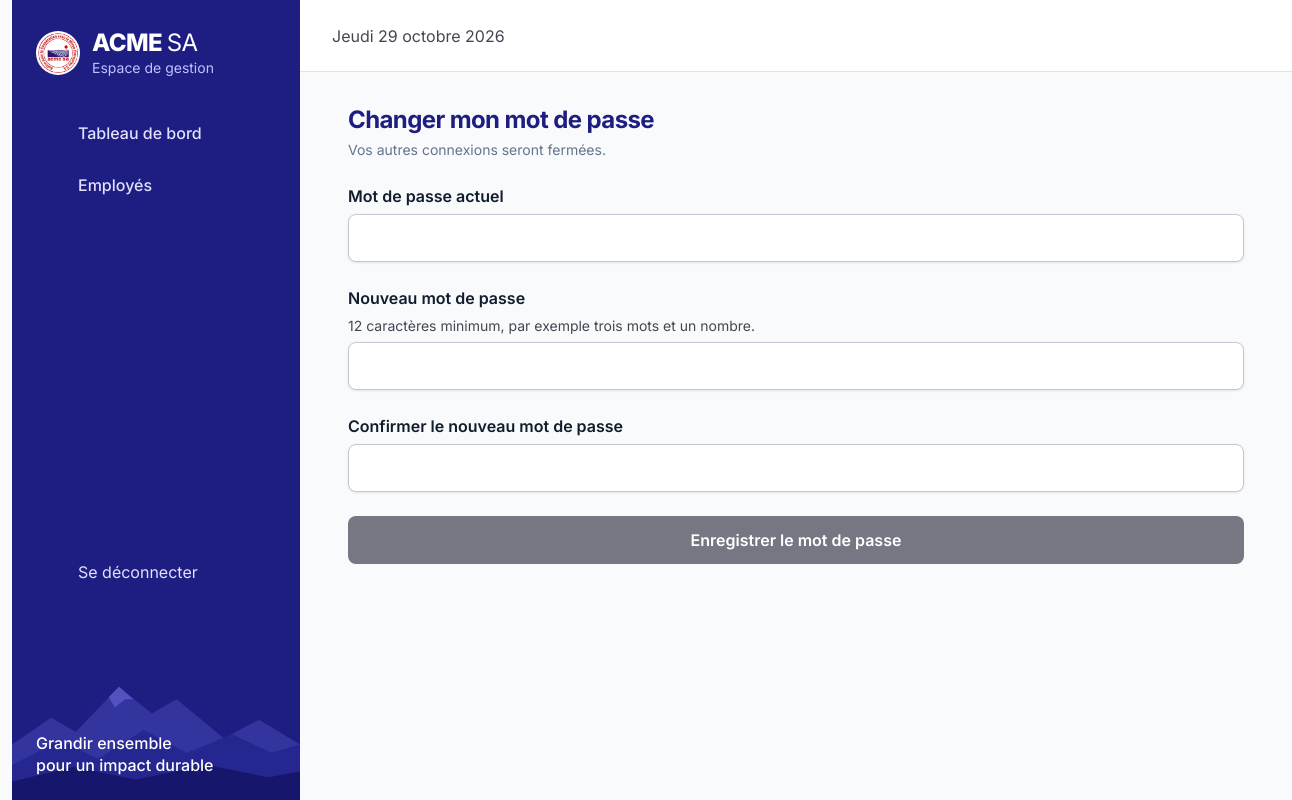
Test: AdminPasswordPage (US-23) › CA-08 : erreur PASSWORD_TOO_SHORT affichée sous le champ concerné
The image size is (1292, 800).
Type "x" into the password field labelled "Mot de passe actuel".
click(796, 238); type("x")  # box [348,214,1244,262]
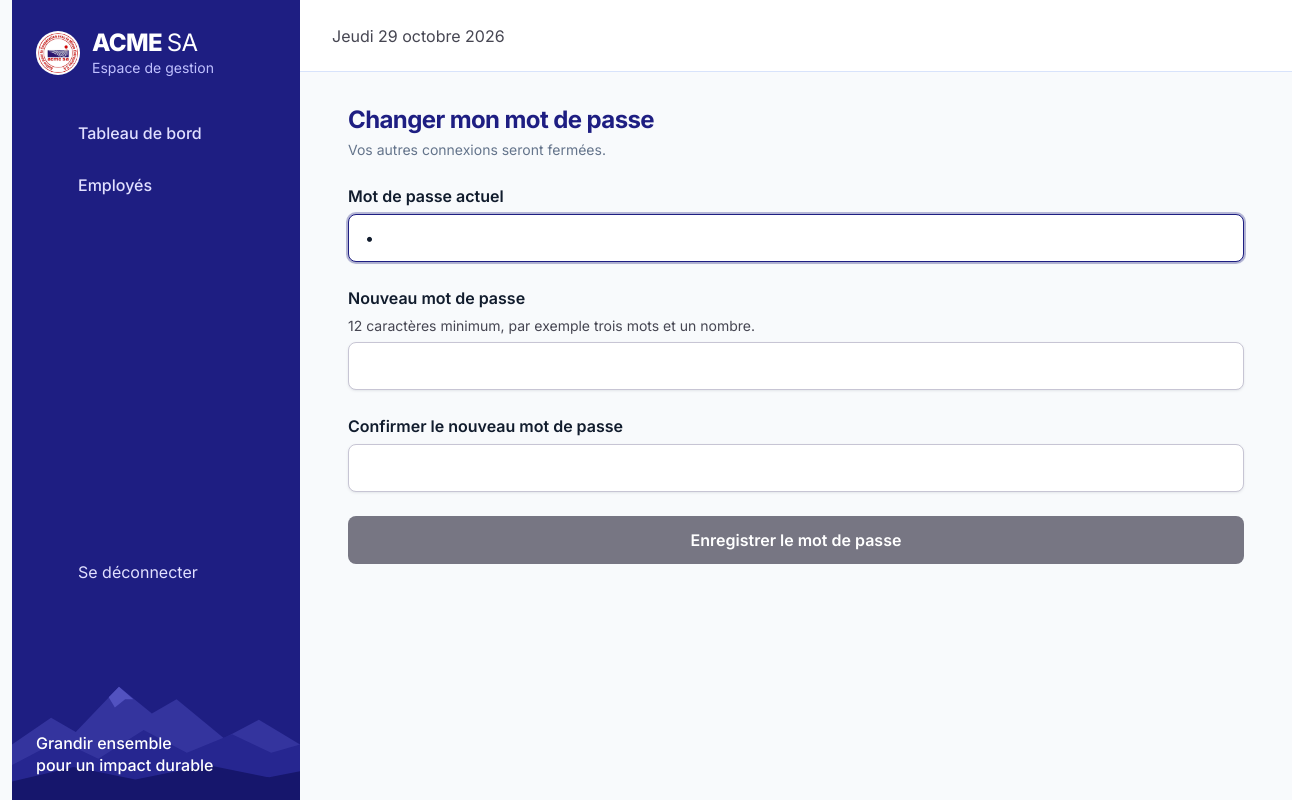
Type "y" into the password field labelled "Nouveau mot de passe".
click(796, 366); type("y")  # box [348,342,1244,390]
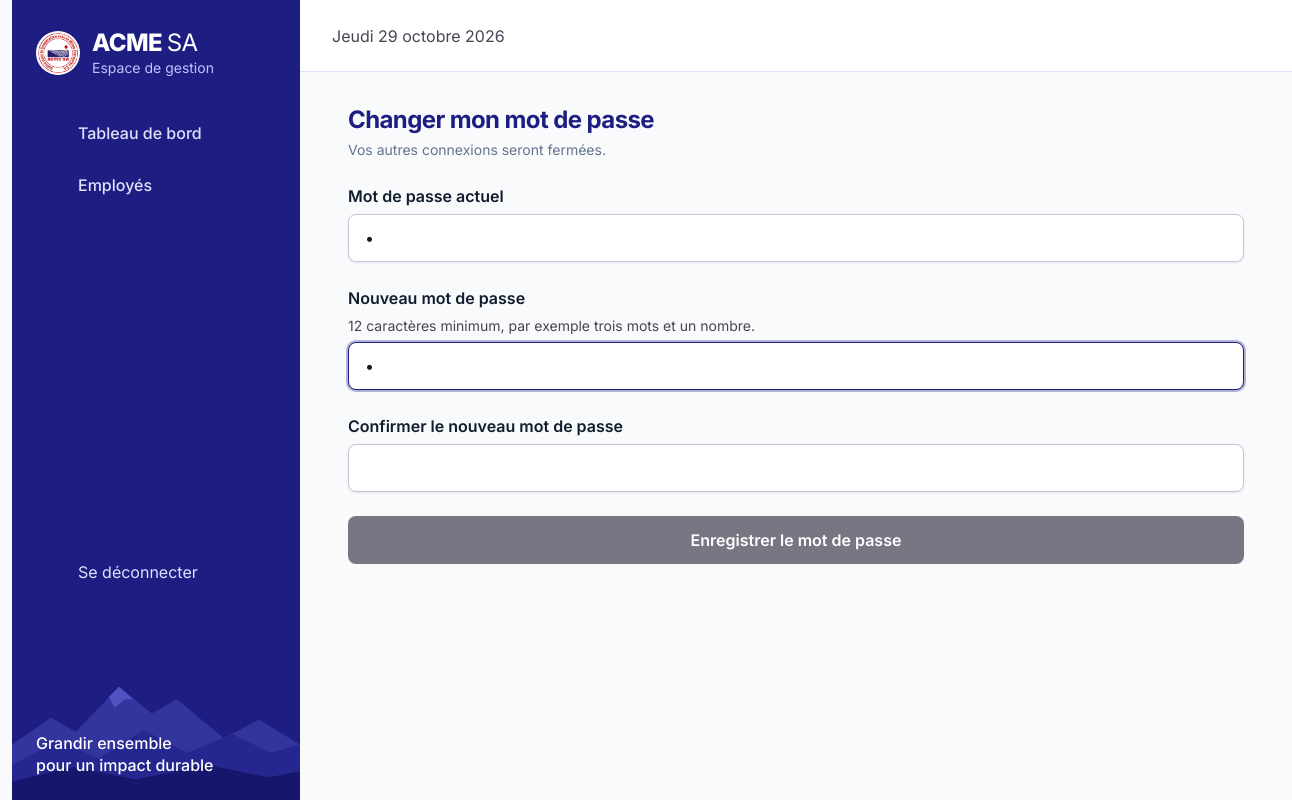
Type "z" into the password field labelled "Confirmer le nouveau mot de passe".
click(796, 468); type("z")  # box [348,444,1244,492]
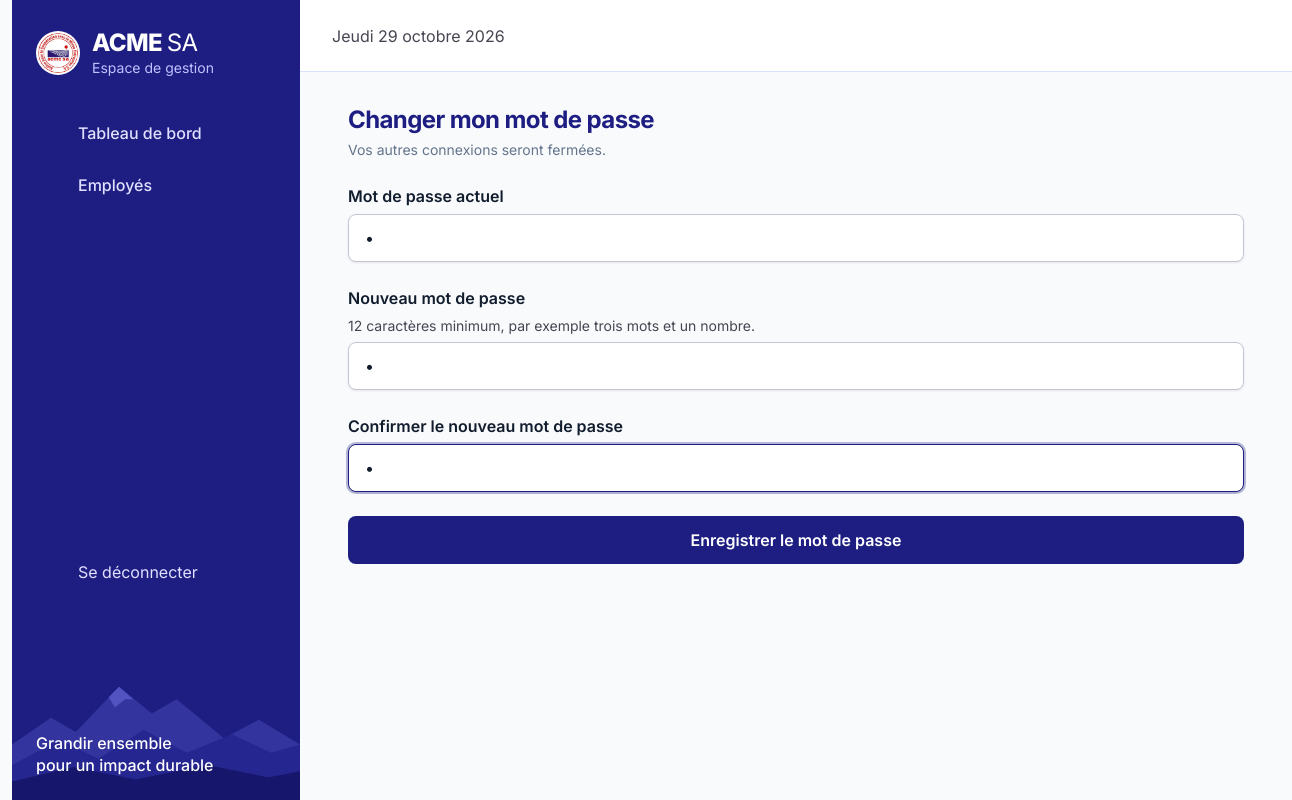
Click the button "Enregistrer le mot de passe".
click(796, 540)  # box [348,516,1244,564]
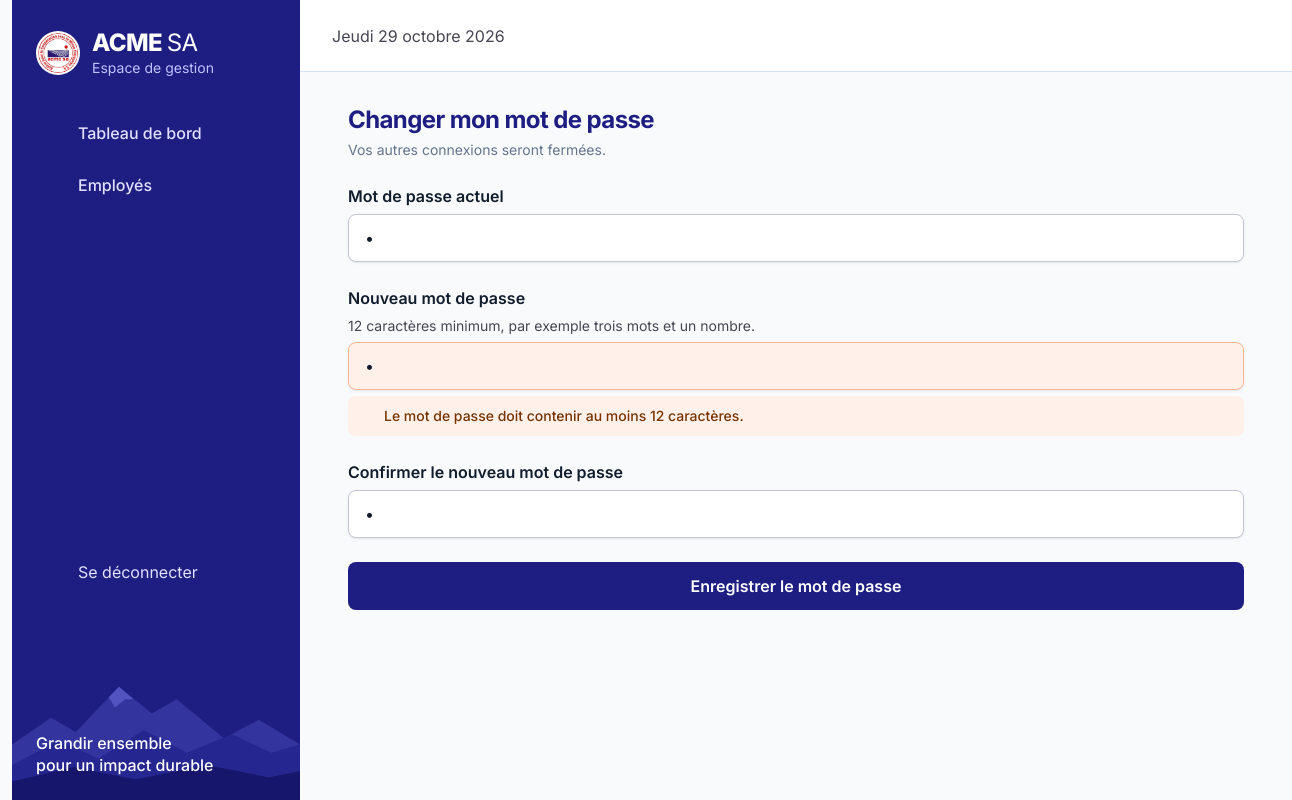
Now the text "Le mot de passe doit contenir au moins 12 caractères." is shown, box [348,396,1244,436]
